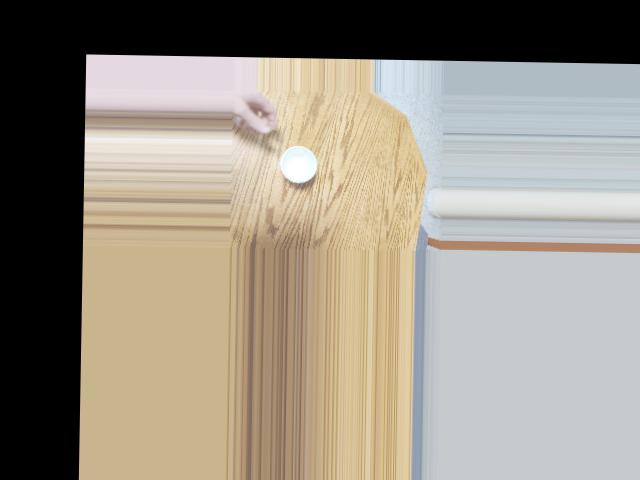cotage: (273, 141, 321, 182)
